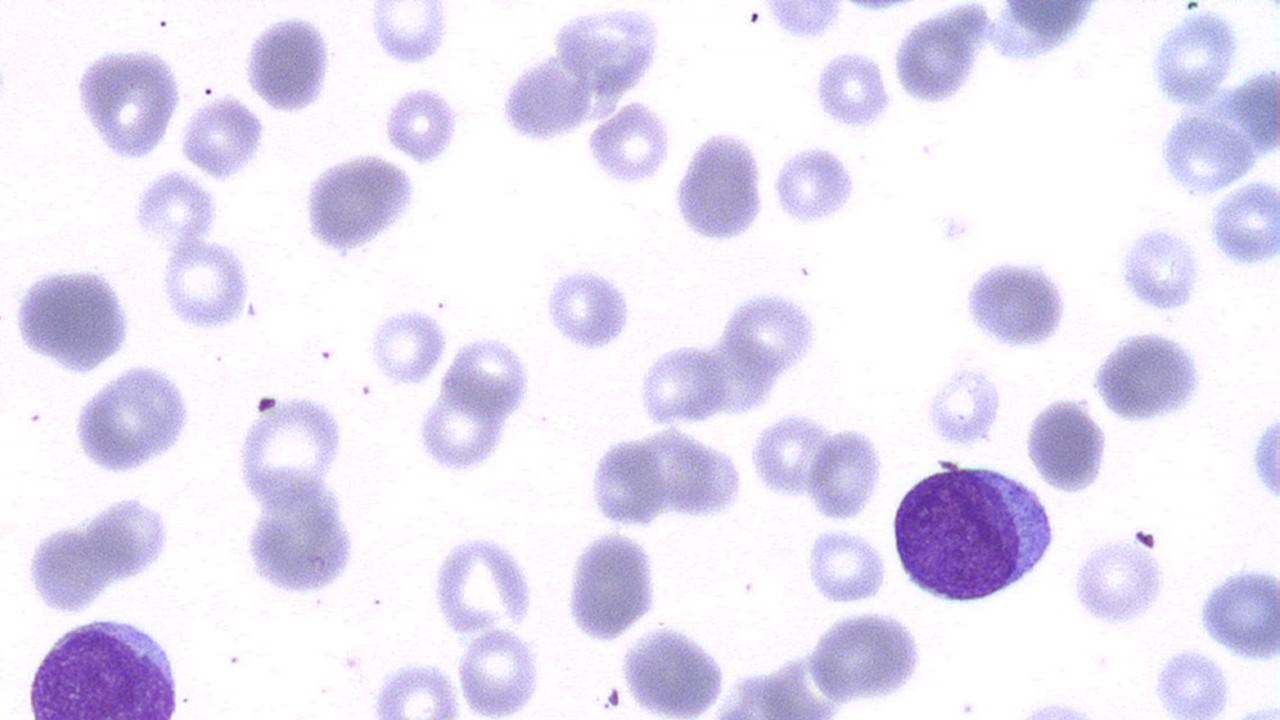Platelets: (930, 204, 979, 249), (254, 393, 278, 414), (243, 299, 258, 320)
RBC: (241, 472, 363, 601), (69, 358, 198, 478), (9, 258, 138, 376), (300, 146, 422, 264), (76, 40, 184, 166), (234, 389, 348, 506), (1088, 324, 1210, 427), (670, 124, 772, 246), (805, 607, 930, 705), (432, 526, 542, 637), (561, 526, 662, 644), (617, 619, 733, 718), (960, 254, 1073, 354), (243, 9, 339, 115), (1067, 534, 1169, 630), (22, 514, 114, 620), (648, 427, 746, 524), (1148, 2, 1236, 110), (413, 380, 508, 478), (158, 235, 253, 333), (80, 492, 178, 586), (1023, 391, 1111, 495), (718, 288, 824, 374), (540, 261, 636, 354), (1155, 110, 1255, 199), (1195, 560, 1280, 662), (454, 624, 544, 718), (636, 338, 732, 426), (1114, 222, 1204, 315), (767, 142, 861, 231), (586, 96, 674, 191), (586, 431, 669, 531), (892, 11, 976, 109), (438, 334, 534, 419), (177, 93, 267, 182), (750, 407, 833, 502), (378, 80, 467, 168), (806, 424, 885, 522), (922, 360, 1006, 449), (809, 47, 894, 133), (131, 168, 218, 249), (802, 526, 890, 606), (365, 304, 449, 386), (1206, 180, 1278, 271), (1149, 646, 1235, 716), (363, 4, 452, 69), (367, 657, 464, 716), (748, 0, 862, 43), (1250, 406, 1280, 512), (1012, 691, 1100, 718)
WBC: (884, 459, 1060, 608), (16, 614, 191, 719)
